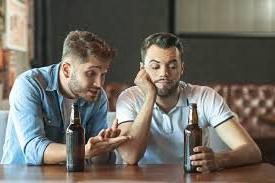Drunk: (145, 46, 182, 95), (75, 56, 108, 101)
